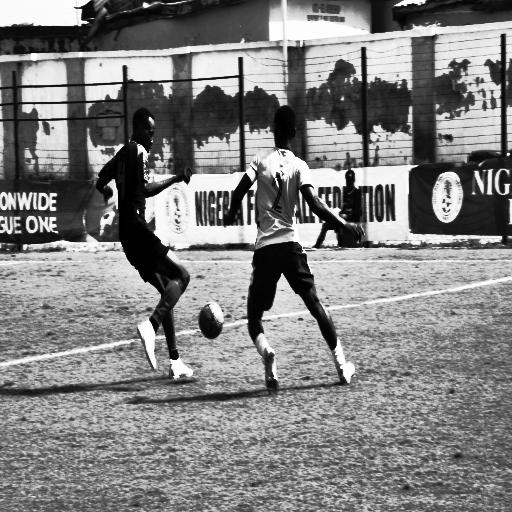ball: (194, 293, 226, 348)
team1: (230, 88, 363, 390)
team2: (85, 93, 197, 388)
